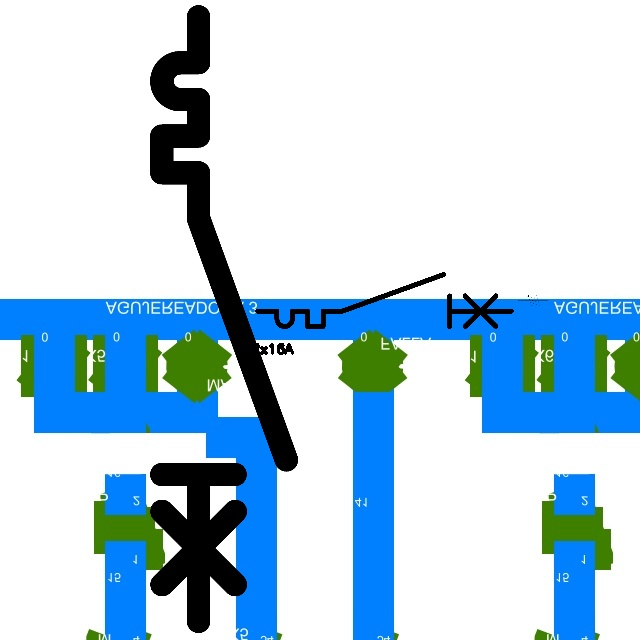interruptor_termomagnetico: (146, 1, 302, 637), (251, 268, 518, 333)
